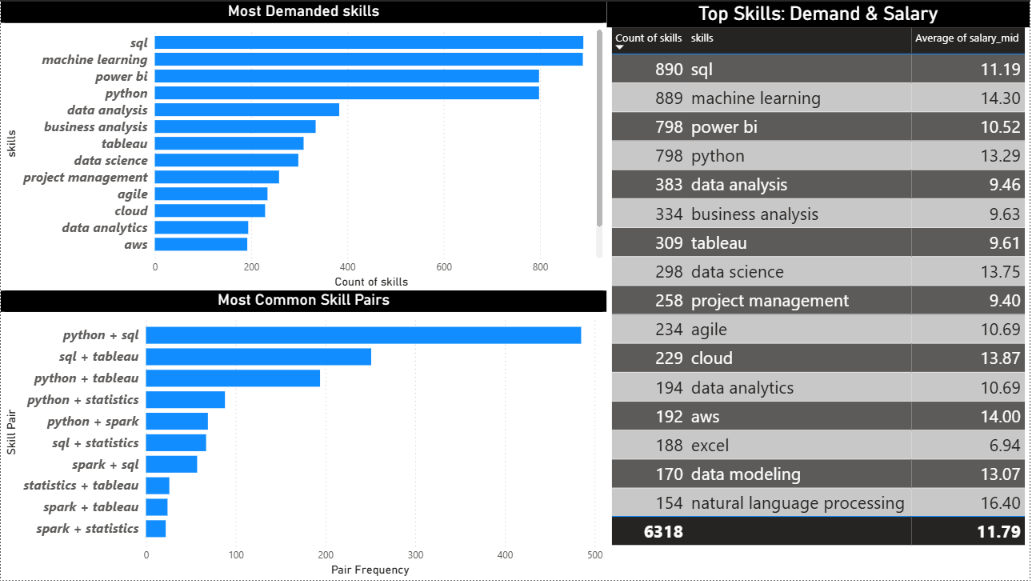

What the dashboard file says about the page in this screenshot:
{"tool":"powerbi","page":{"name":"Skills Intelligence","canvas":[1280,720],"ordinal":1},"visuals":[{"type":"clusteredBarChart","title":"Most Demanded skills","fields":{"Category":["skills_exploded.skills"],"Y":["CountNonNull(skills_exploded.skills)"]},"box":[0,0,670,361.4],"z":0},{"type":"clusteredBarChart","title":"Most Common Skill Pairs","fields":{"Category":["skill_pairs.Skill Pair"],"Y":["Sum(skill_pairs.count)"]},"box":[0,360,670,360],"z":1000},{"type":"tableEx","title":"Top Skills: Demand & Salary","fields":{"Values":["skills_exploded.skills","skills_exploded.skills1","Avg(skills_exploded.salary_mid)"]},"box":[680,0,600,361.4],"z":2000}]}

Visuals, with their boxes in screenshot pixels (x1, y1, x2, y2), scaled from the page's 1280x720 canvas onto the 1031x581 screenshot:
"Most Demanded skills" clusteredBarChart: (x1=0, y1=0, x2=540, y2=292)
"Most Common Skill Pairs" clusteredBarChart: (x1=0, y1=290, x2=540, y2=580)
"Top Skills: Demand & Salary" tableEx: (x1=548, y1=0, x2=1030, y2=292)
